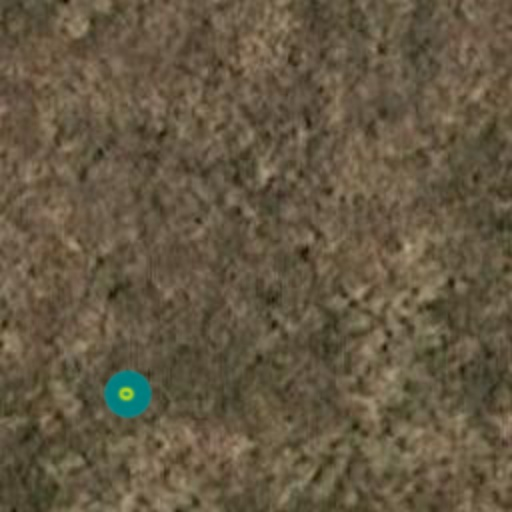circle: (102, 368, 154, 420)
